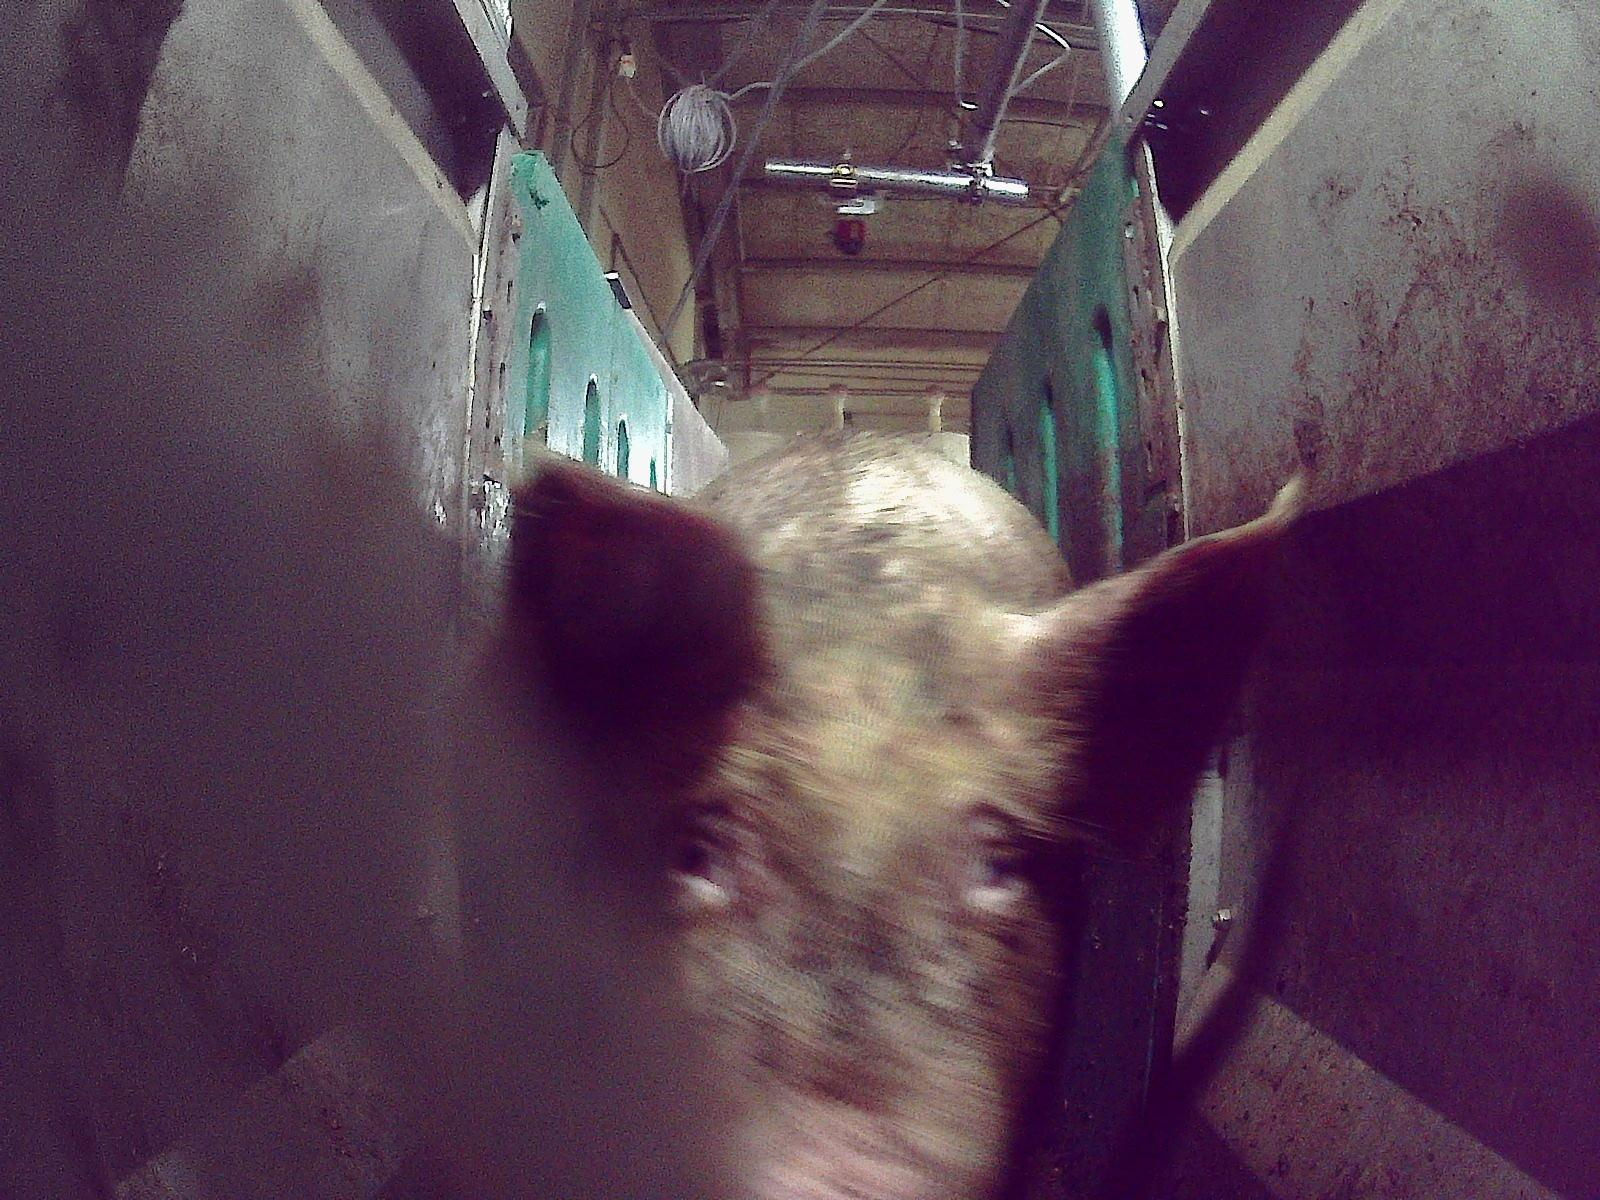Face: (602, 599, 1078, 1199)
